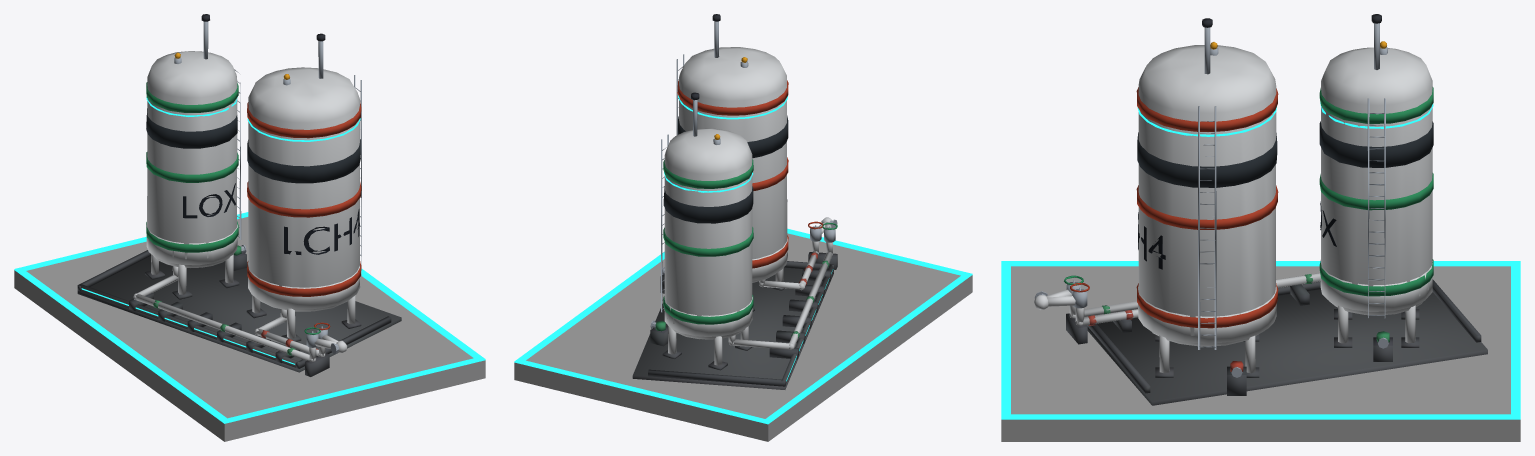
The model's file is pad_tanks_lox_lch4_b_711c5574.glb.
3 renders of one model, left to right at view 1: azimuth 30°, elevation 25°; view 2: azimuth 150°, elevation 25°; view 3: azimuth 270°, elevation 25°, orthographic. The views are drawn at different scales.
Visible parts, largest first — view 1: Pad_Tanks_mesh, Pad_Tanks_Slab; view 2: Pad_Tanks_mesh, Pad_Tanks_Slab; view 3: Pad_Tanks_mesh, Pad_Tanks_Slab.
Part boxes in pixels (<box>): Pad_Tanks_mesh: <box>77,14,401,376</box>; Pad_Tanks_Slab: <box>14,212,485,441</box>; Pad_Tanks_mesh: <box>632,14,837,389</box>; Pad_Tanks_Slab: <box>514,228,972,441</box>; Pad_Tanks_mesh: <box>1034,14,1487,405</box>; Pad_Tanks_Slab: <box>1001,261,1520,441</box>.
Bounding box in the file's own units: 11.37 × 12.54 × 15.85.
